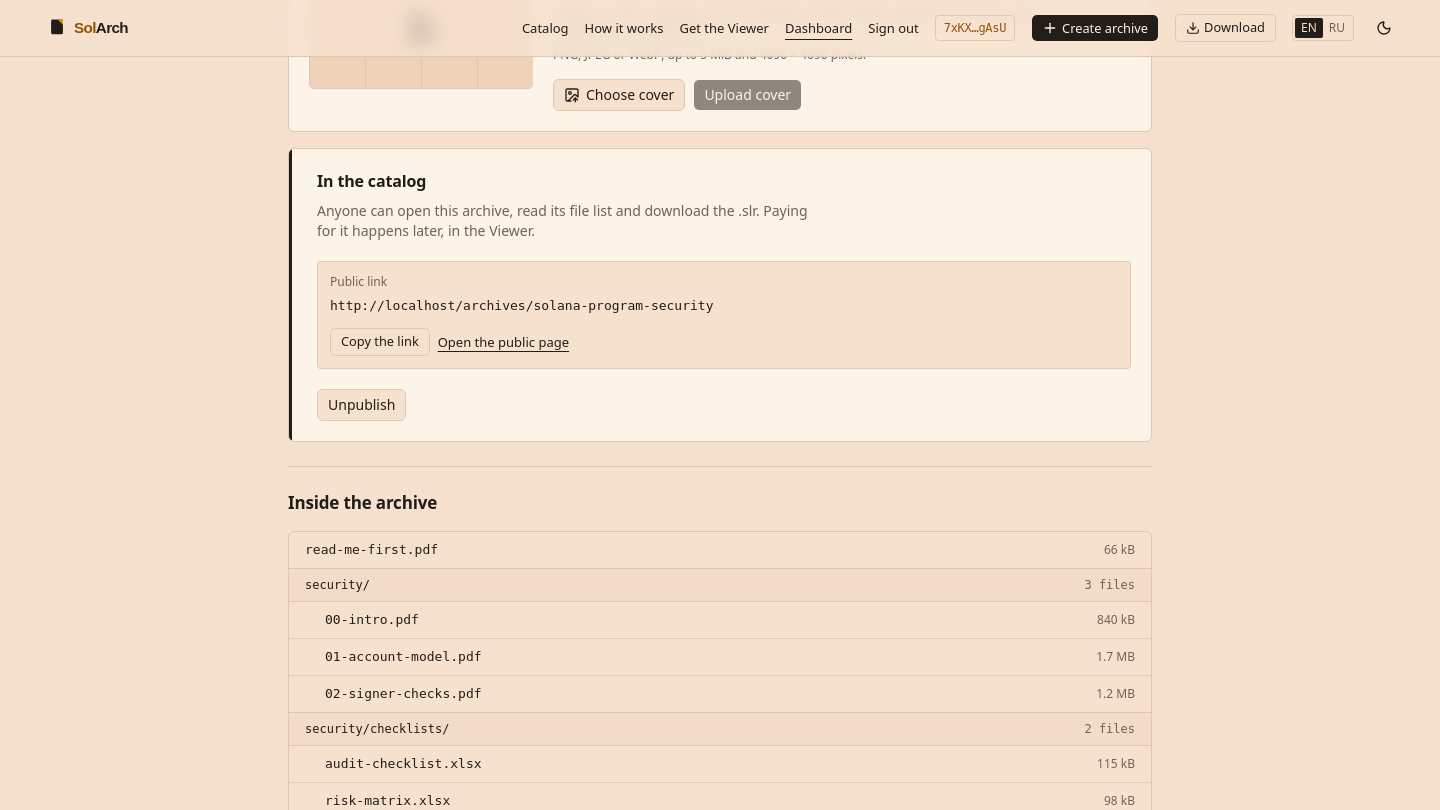
Test: витрина архива › снимает архив с публикации только после подтверждения
(page scrolled)
Expected: the heading "In the catalog" is shown, [317, 170, 426, 192]
Click the button "Unpublish": (362, 405) [317, 389, 406, 421]
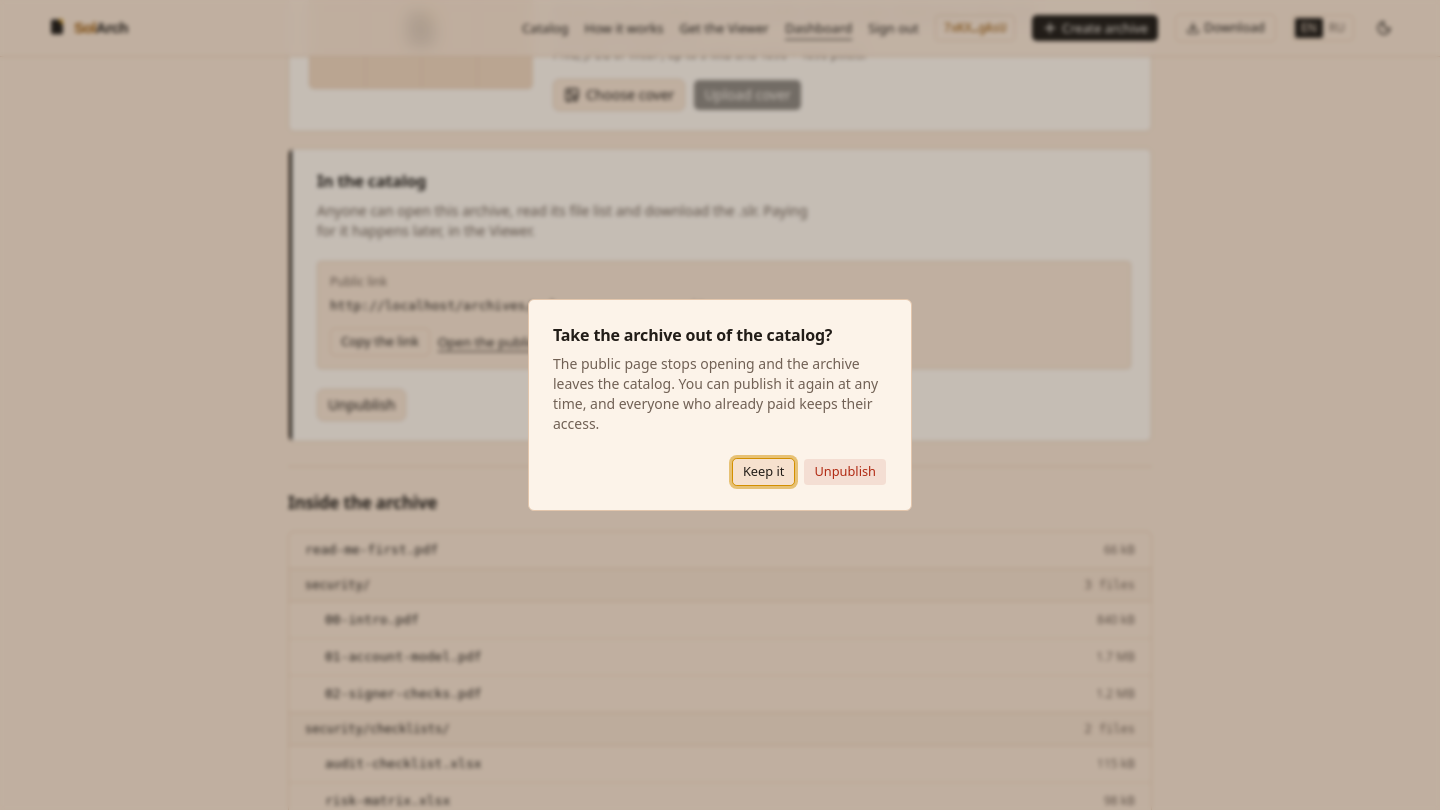
Now the heading "Take the archive out of the catalog?" is shown, box [553, 324, 832, 346]
Отказ ничего не меняет: архив остаётся на витрине.
Click the button "Keep it": (764, 472) [732, 458, 796, 486]
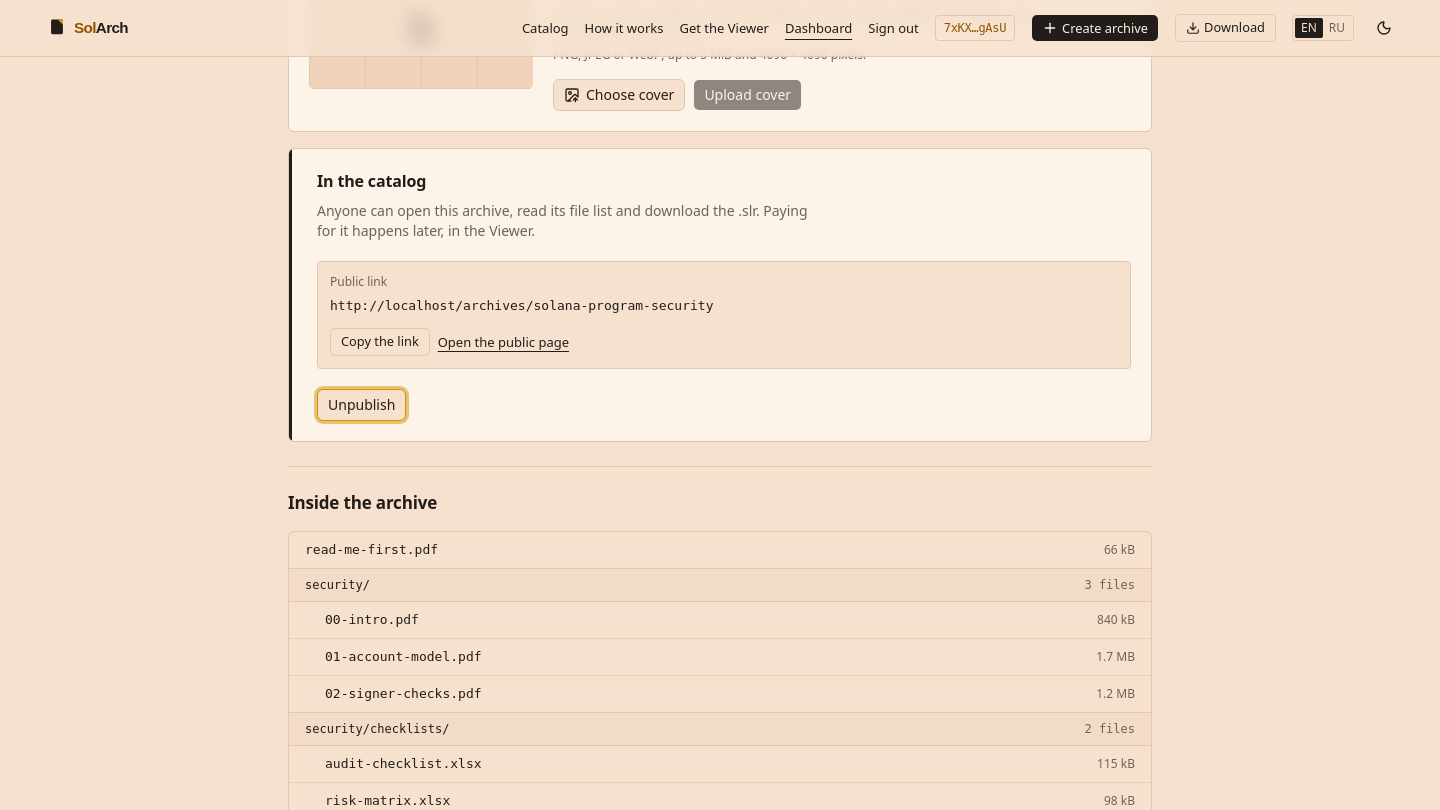
Expected: the heading "In the catalog" is shown, [317, 170, 426, 192]
Now the dialog is gone
Click the button "Unpublish": (362, 405) [317, 389, 406, 421]
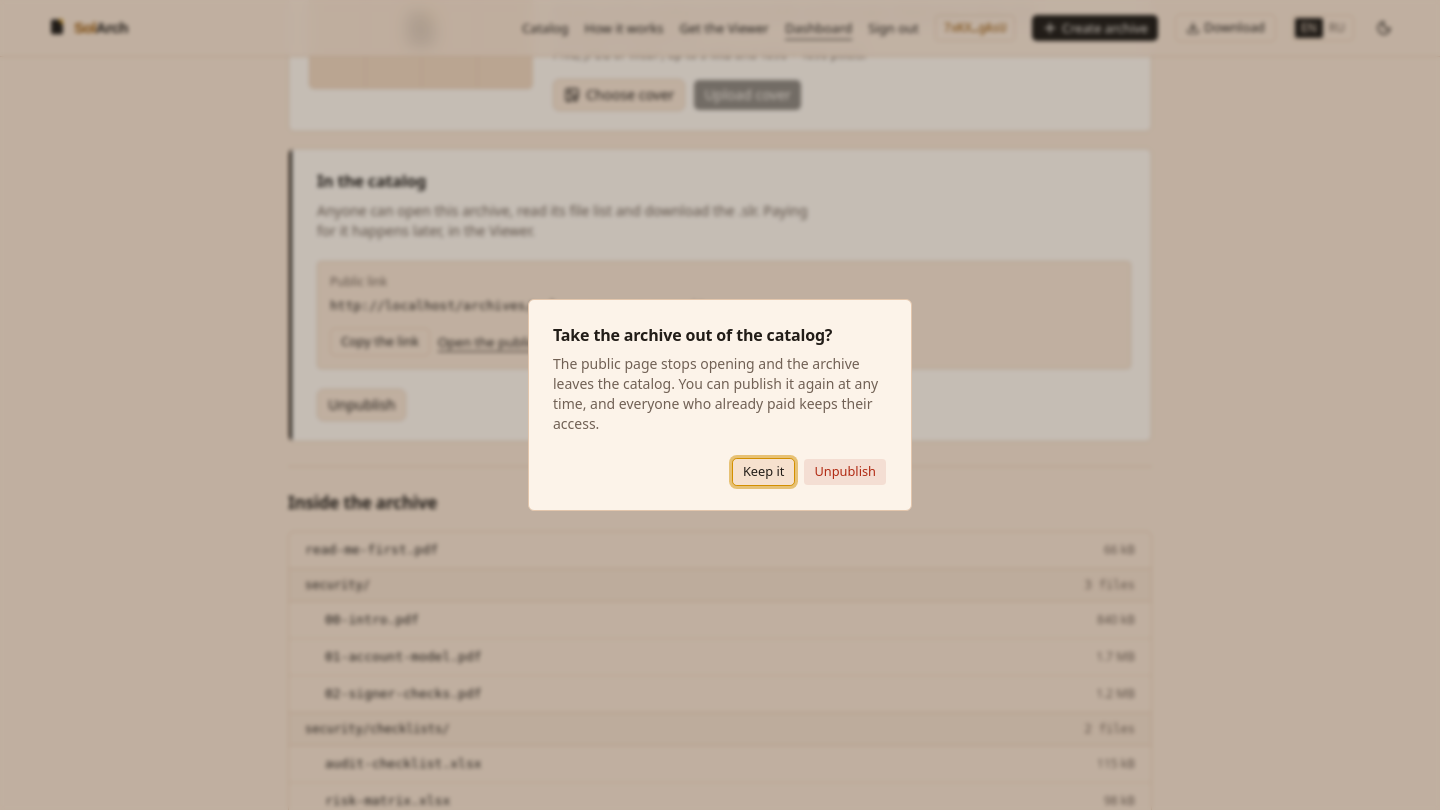
Click the button "Unpublish": (845, 472) [803, 458, 887, 486]
(page scrolled)
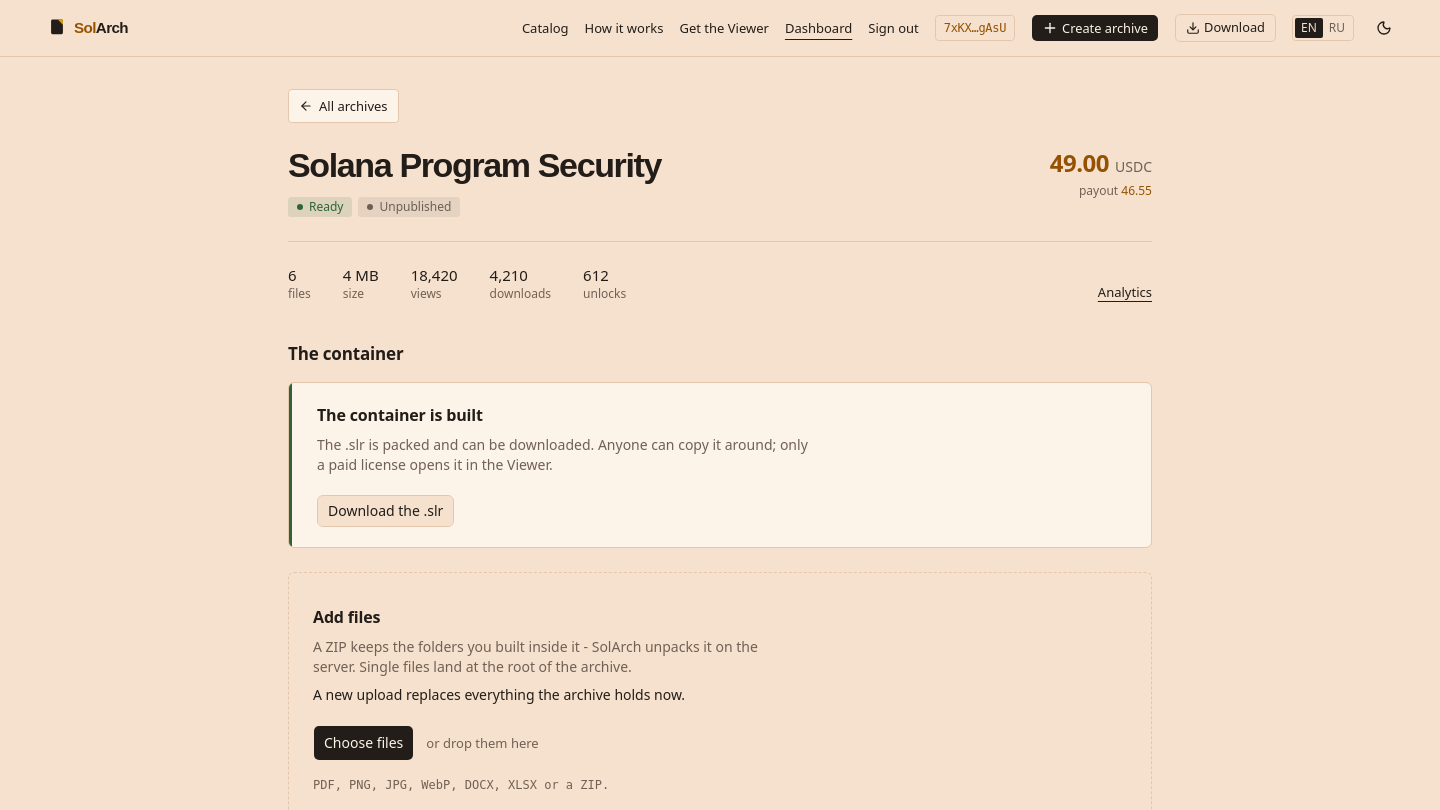
Now the text "Unpublished" is shown, box [358, 196, 460, 216]
